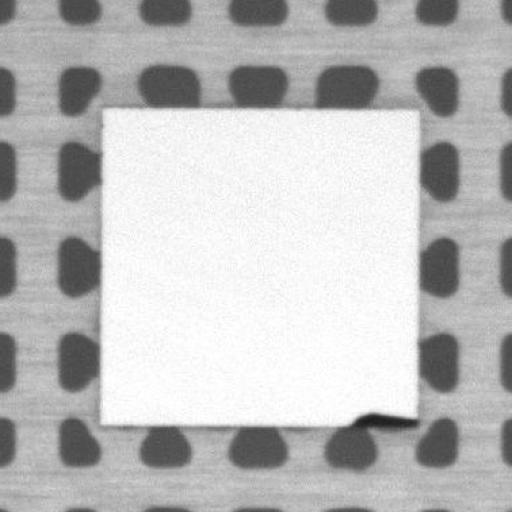DIE_BROKEN: (344, 408, 421, 430)
